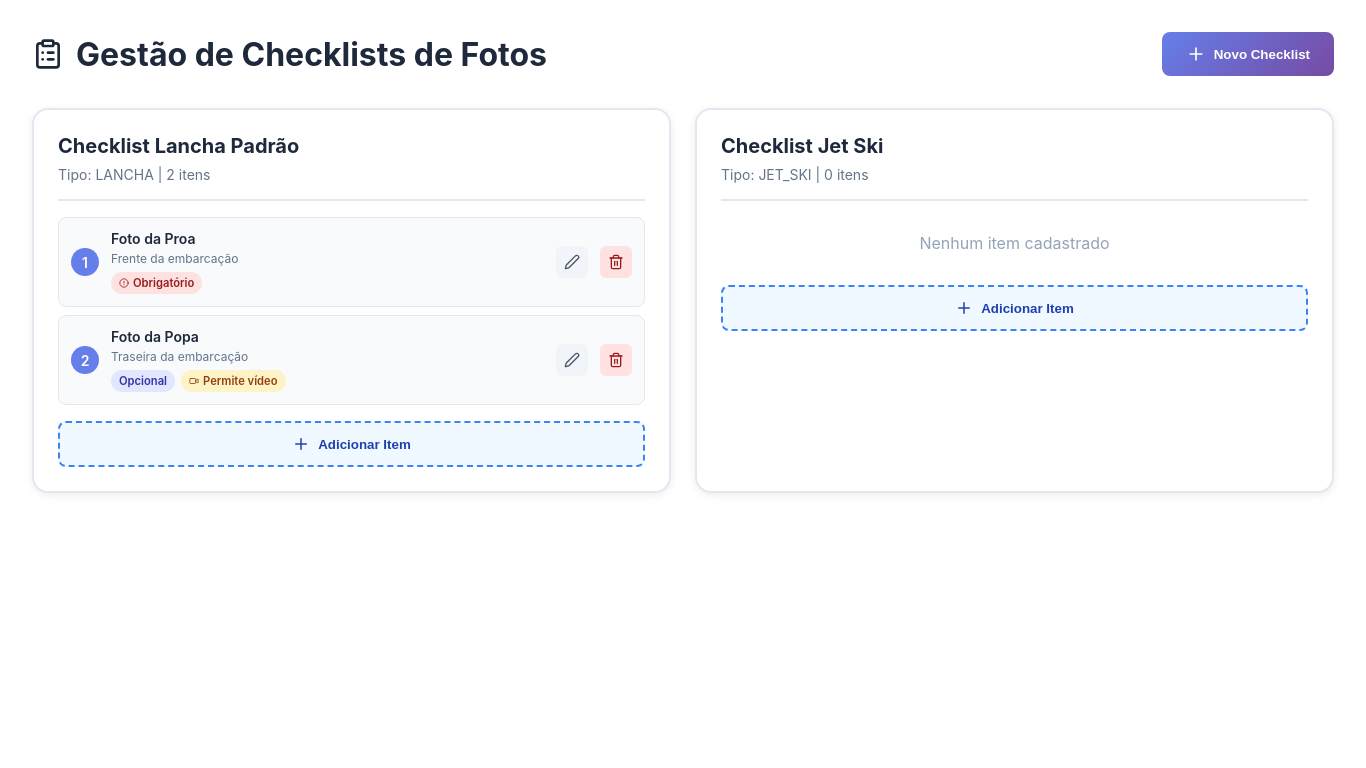
Scenario: ChecklistTemplates › Criar novo template › deve abrir modal ao clicar em Novo Checklist
Click the button "Novo Checklist" at [1248, 54], box [1162, 32, 1334, 76]
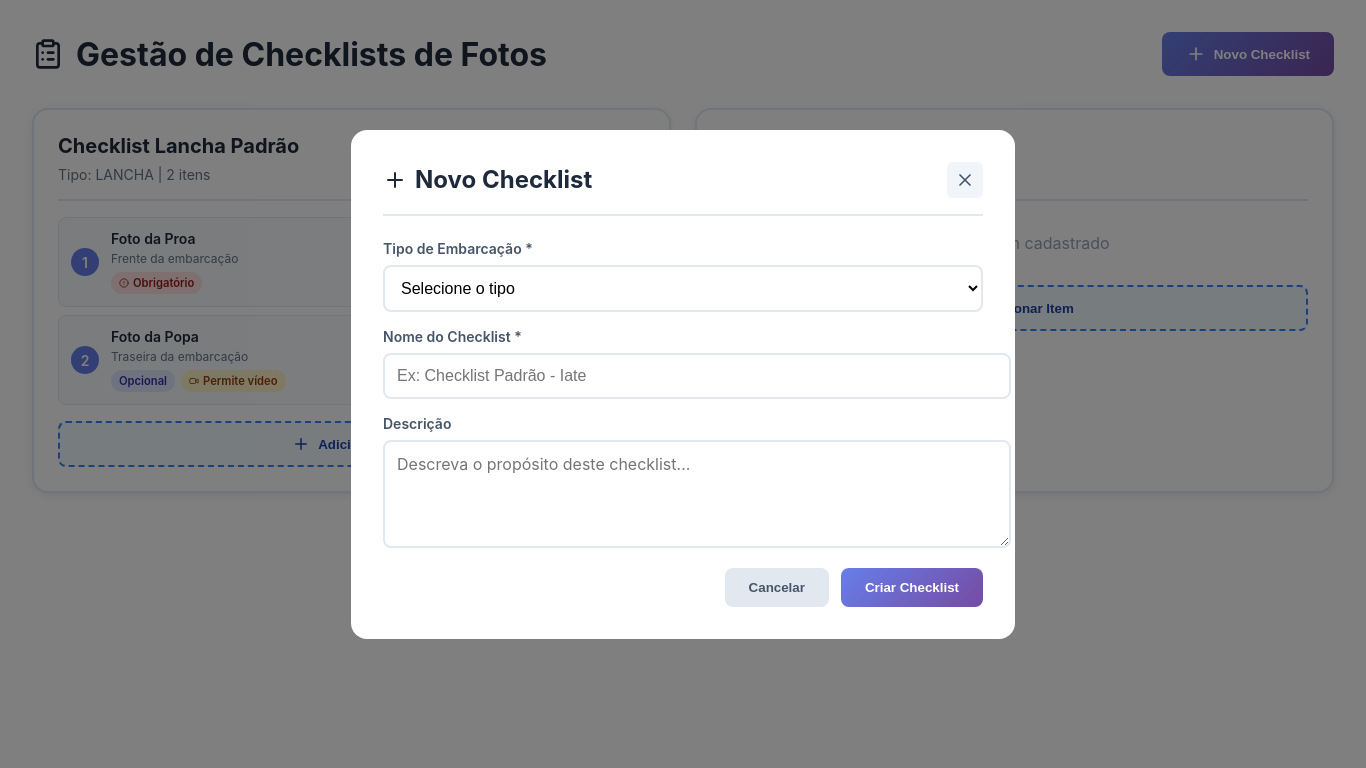
Check: the text "Tipo de Embarcação *" is shown, box [383, 240, 533, 256]
Check: the text "Nome do Checklist *" is shown, box [383, 328, 522, 344]
